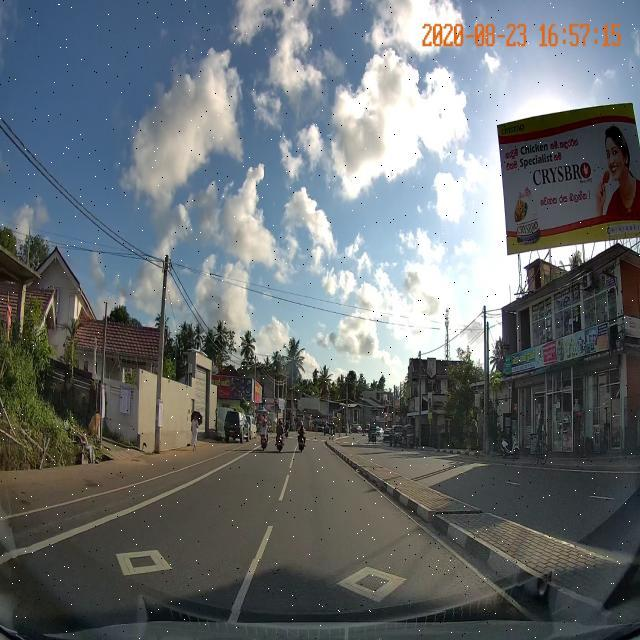diamond: (232, 560, 518, 611)
